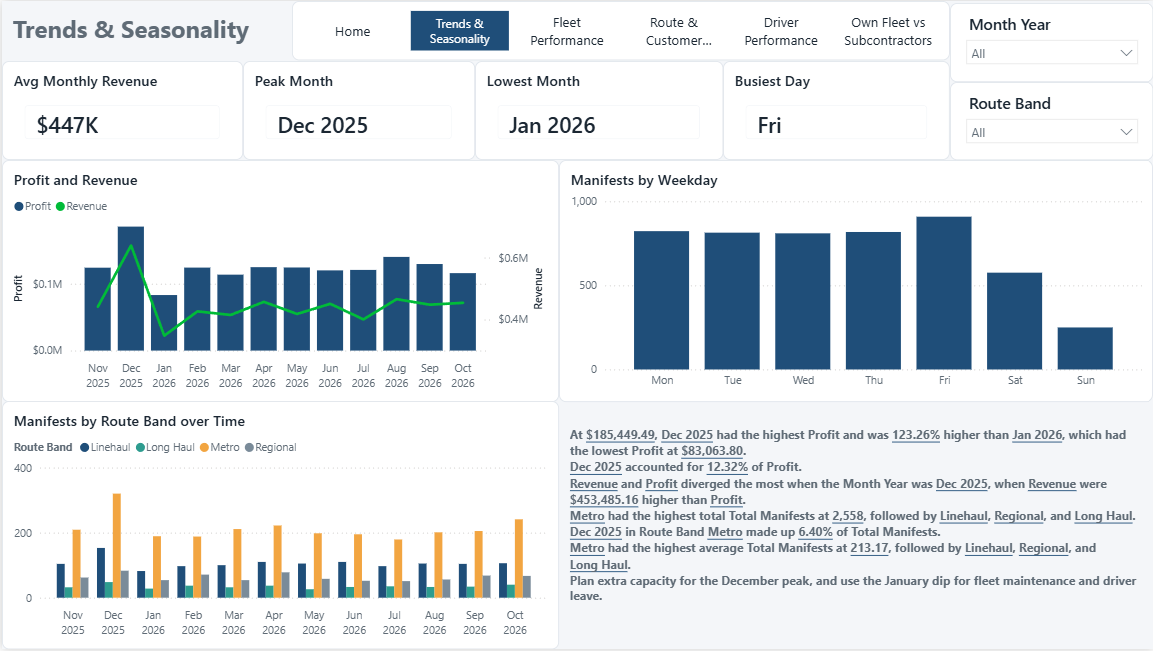

What the dashboard file says about the page in this screenshot:
{"tool":"powerbi","page":{"name":"Trends & Seasonality","canvas":[1280,720],"ordinal":1},"visuals":[{"type":"cardVisual","title":"Avg Monthly Revenue","fields":{"Data":["_Measure.Avg Monthly Revenue"]},"box":[0,66.7,267.8,110],"z":0},{"type":"cardVisual","title":"Peak Month","fields":{"Data":["_Measure.Peak Month"]},"box":[267.8,66.7,257.8,110],"z":1000},{"type":"cardVisual","title":"Lowest Month","fields":{"Data":["_Measure.Lowest Month"]},"box":[525.6,66.7,275.6,110],"z":2000},{"type":"cardVisual","title":"Busiest Day","fields":{"Data":["_Measure.Busiest Day"]},"box":[801.1,66.7,252.2,110],"z":4000},{"type":"lineStackedColumnComboChart","title":"Profit and Revenue ","fields":{"Category":["dim_date.Month Year"],"Y":["_Measure.Profit"],"Y2":["_Measure.Revenue"]},"box":[0,176.2,618.8,268.8],"z":6000},{"type":"clusteredColumnChart","title":"Manifests by Weekday","fields":{"Category":["dim_date.Weekday"],"Y":["_Measure.Total Manifests"]},"box":[618.8,176.2,661.2,268.8],"z":8000},{"type":"slicer","fields":{"Values":["fact_manifest.Route Band"]},"box":[1053.3,90,226.7,86.7],"z":9000},{"type":"slicer","fields":{"Values":["dim_date.Month Year"]},"box":[1053.3,2.2,226.7,87.8],"z":11000},{"type":"textbox","box":[0,2.1,602.4,73],"z":12000},{"type":"textbox","box":[618.9,611.1,661.1,108.9],"z":13000},{"type":"clusteredColumnChart","title":"Manifests by Route Band over Time","fields":{"Category":["dim_date.Month Year"],"Series":["fact_manifest.Route Band"],"Y":["_Measure.Total Manifests"]},"box":[0,444.4,618.9,275.6],"z":13001},{"type":"textbox","box":[618.8,445,661.2,275],"z":13002},{"type":"pageNavigator","box":[322.5,0,731.2,66.2],"z":13003}]}

Visuals, with their boxes in screenshot pixels (x1, y1, x2, y2), scaled from the page's 1280x720 canvas onto the 1153x651 screenshot:
"Avg Monthly Revenue" cardVisual: select_region(0, 60, 241, 160)
"Peak Month" cardVisual: select_region(241, 60, 473, 160)
"Lowest Month" cardVisual: select_region(473, 60, 722, 160)
"Busiest Day" cardVisual: select_region(722, 60, 949, 160)
"Profit and Revenue " lineStackedColumnComboChart: select_region(0, 159, 557, 402)
"Manifests by Weekday" clusteredColumnChart: select_region(557, 159, 1152, 402)
slicer - fact_manifest.Route Band: select_region(949, 81, 1152, 160)
slicer - dim_date.Month Year: select_region(949, 2, 1152, 81)
textbox: select_region(0, 2, 543, 68)
textbox: select_region(557, 553, 1152, 650)
"Manifests by Route Band over Time" clusteredColumnChart: select_region(0, 402, 557, 650)
textbox: select_region(557, 402, 1152, 650)
pageNavigator: select_region(291, 0, 949, 60)
